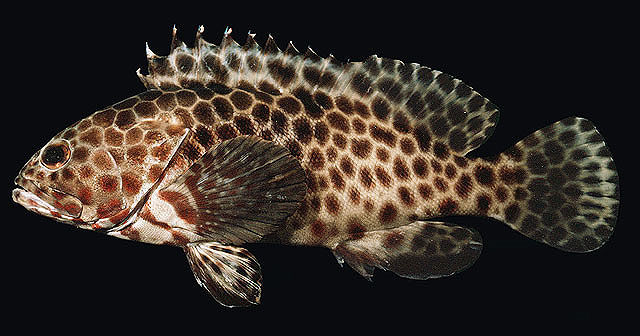fish: (10, 25, 620, 310)
